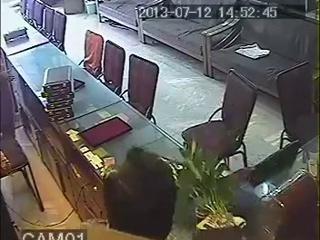Normal: (103, 147, 177, 240)
